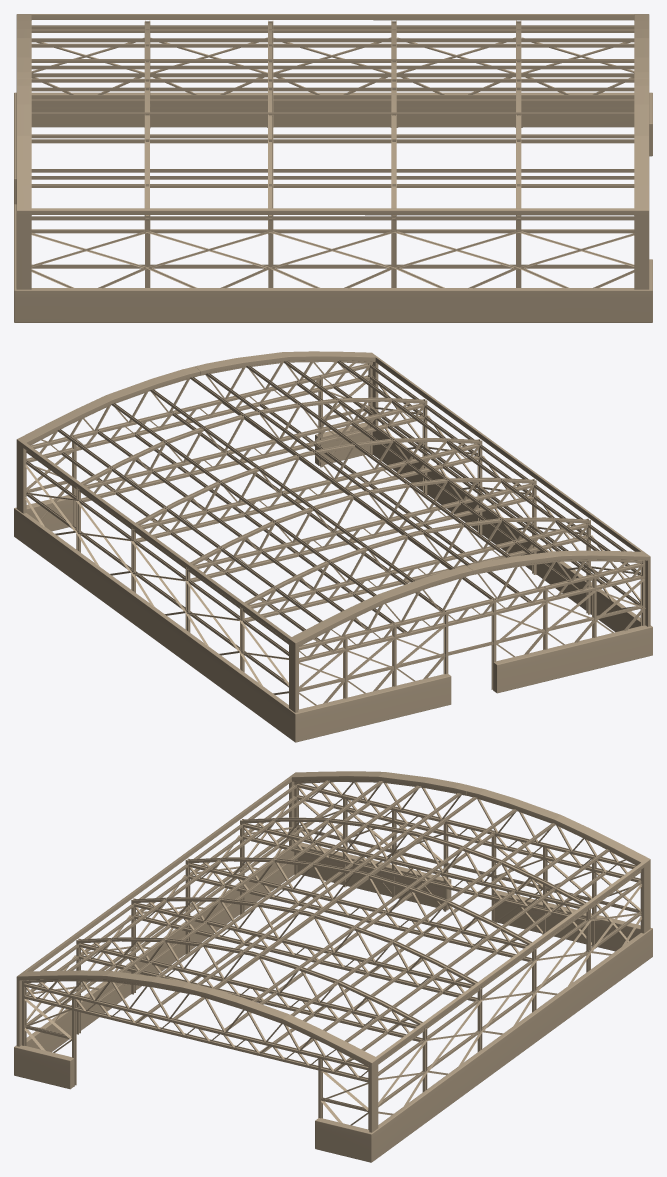
The picture shows the model from 3 angles, top to bottom: view 1: azimuth 30°, elevation 25°; view 2: azimuth 150°, elevation 25°; view 3: azimuth 270°, elevation 25°; orthographic projection. The views are drawn at different scales.
Parts seen in each view (by area): view 1: Hangar_Structure1; view 2: Hangar_Structure1; view 3: Hangar_Structure1.
Boxes of the visible parts, bbox=[...] form: Hangar_Structure1: bbox=[14, 14, 652, 322]; Hangar_Structure1: bbox=[14, 351, 652, 742]; Hangar_Structure1: bbox=[14, 771, 652, 1162].
Bounding box in the file's own units: 6019 × 1232 × 5543.
